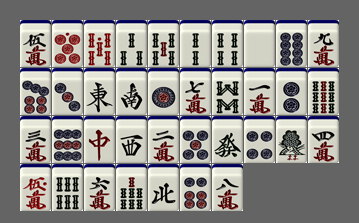0m: (20, 164, 51, 211)
0p: (52, 20, 83, 67)
0s: (84, 20, 115, 67)
1m: (244, 68, 275, 115)
1p: (148, 68, 179, 115)
1s: (276, 116, 307, 163)
1z: (84, 68, 115, 115)
2m: (148, 116, 179, 163)
2p: (276, 68, 307, 115)
2s: (180, 20, 211, 67)
2z: (116, 68, 147, 115)
3m: (20, 116, 51, 163)
3p: (52, 68, 83, 115)
3s: (116, 20, 147, 67)
3z: (116, 116, 147, 163)
4m: (308, 116, 339, 163)
4p: (244, 116, 275, 163)
4s: (212, 20, 243, 67)
4z: (148, 164, 179, 211)
5m: (20, 20, 51, 67)
5p: (180, 116, 211, 163)
5s: (148, 20, 179, 67)
5z: (244, 20, 275, 67)
6m: (84, 164, 115, 211)
6p: (180, 164, 211, 211)
6s: (52, 164, 83, 211)
6z: (212, 116, 243, 163)
7m: (180, 68, 211, 115)
7p: (20, 68, 51, 115)
7s: (116, 164, 147, 211)
7z: (84, 116, 115, 163)
8m: (212, 164, 243, 211)
8p: (276, 20, 307, 67)
8s: (212, 68, 243, 115)
9m: (308, 20, 339, 67)
9p: (52, 116, 83, 163)
9s: (308, 68, 339, 115)
